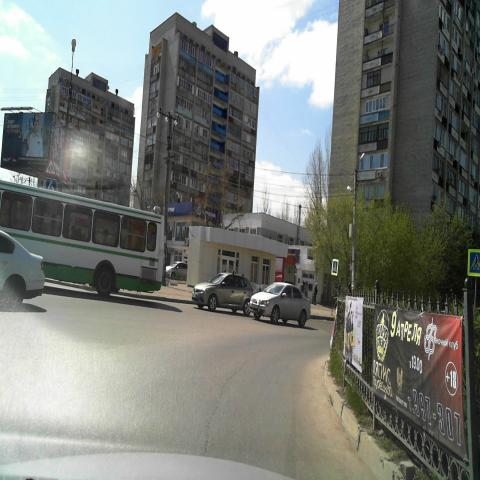1_23: (44, 157, 56, 176)
5_19_1: (467, 248, 480, 276), (331, 258, 339, 276)
